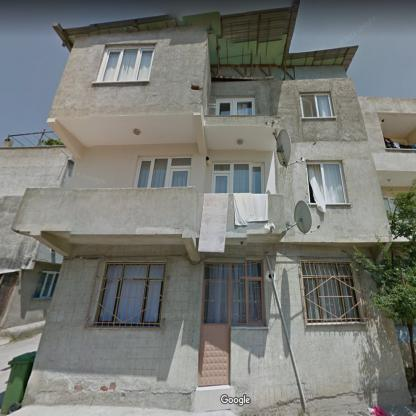door: (198, 280, 230, 386), (211, 172, 229, 192)
window: (95, 263, 165, 325), (204, 260, 264, 325), (301, 262, 361, 322), (96, 46, 154, 82), (134, 156, 191, 186), (212, 163, 264, 193), (308, 162, 346, 203), (301, 93, 333, 117), (216, 97, 254, 115), (34, 271, 58, 298)
